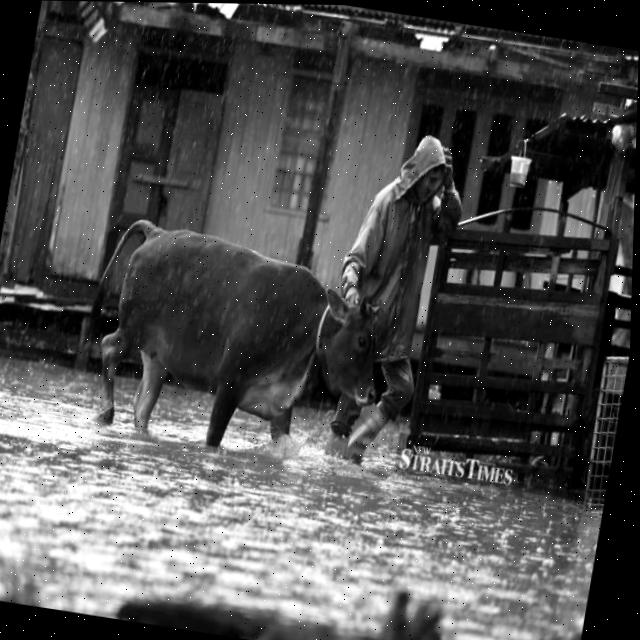civilian: (306, 116, 473, 476)
cow: (60, 211, 402, 477)
